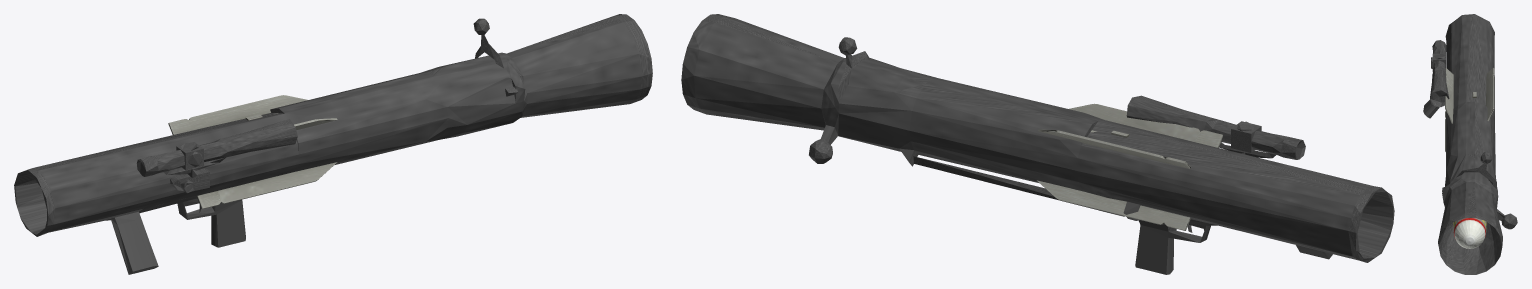
Rendered from raketomet.glb.
The picture shows the model from 3 angles, left to right: view 1: azimuth 30°, elevation 25°; view 2: azimuth 150°, elevation 25°; view 3: azimuth 270°, elevation 25°; orthographic projection. The views are drawn at different scales.
Visible parts, largest first — view 1: raketomet, raketa_v_hlavni; view 2: raketomet, raketa_v_hlavni; view 3: raketomet, raketa_v_hlavni.
Boxes of the visible parts, box(x1,y1,x2,y2) form: raketomet: box(14, 14, 652, 274); raketa_v_hlavni: box(168, 95, 337, 209); raketomet: box(681, 14, 1394, 274); raketa_v_hlavni: box(1037, 103, 1222, 230); raketomet: box(1423, 14, 1517, 274); raketa_v_hlavni: box(1445, 68, 1494, 248).
Size of the model in its own units: 1.2 by 0.2879 by 0.2277.
2 materials, 2 textured.
